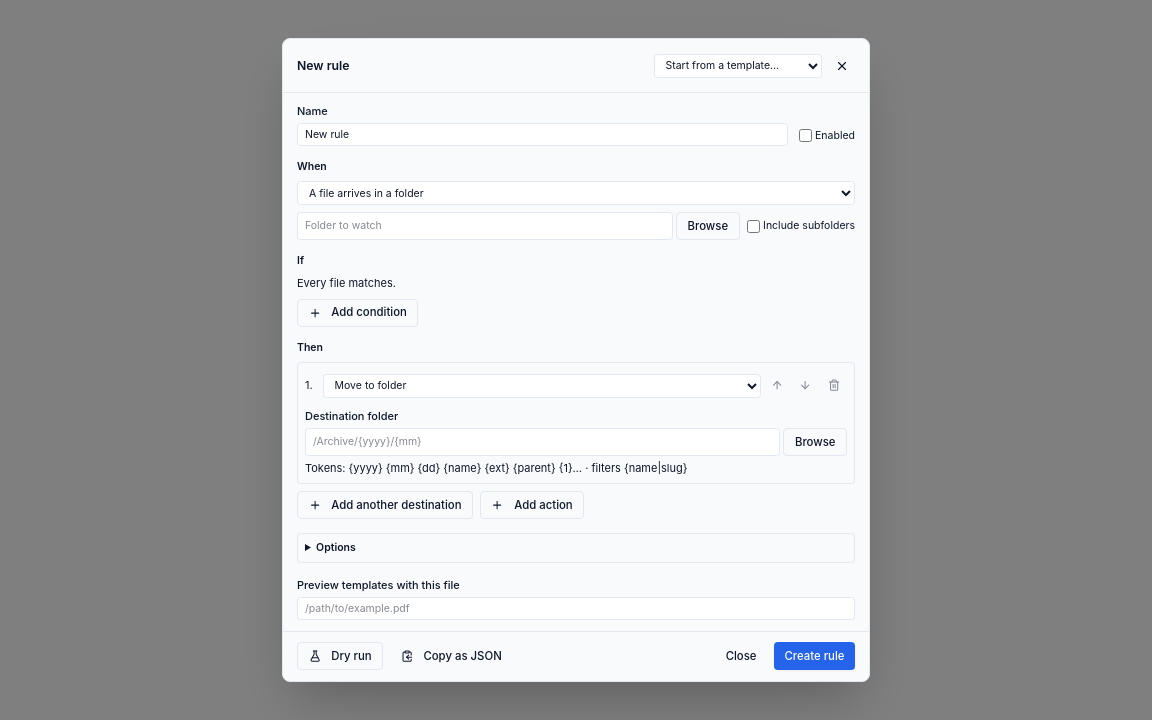
it: AutomationRuleEditor › validates before saving
Click the button "Create rule". click: (814, 656)
box: x1=774 y1=642 x2=855 y2=670
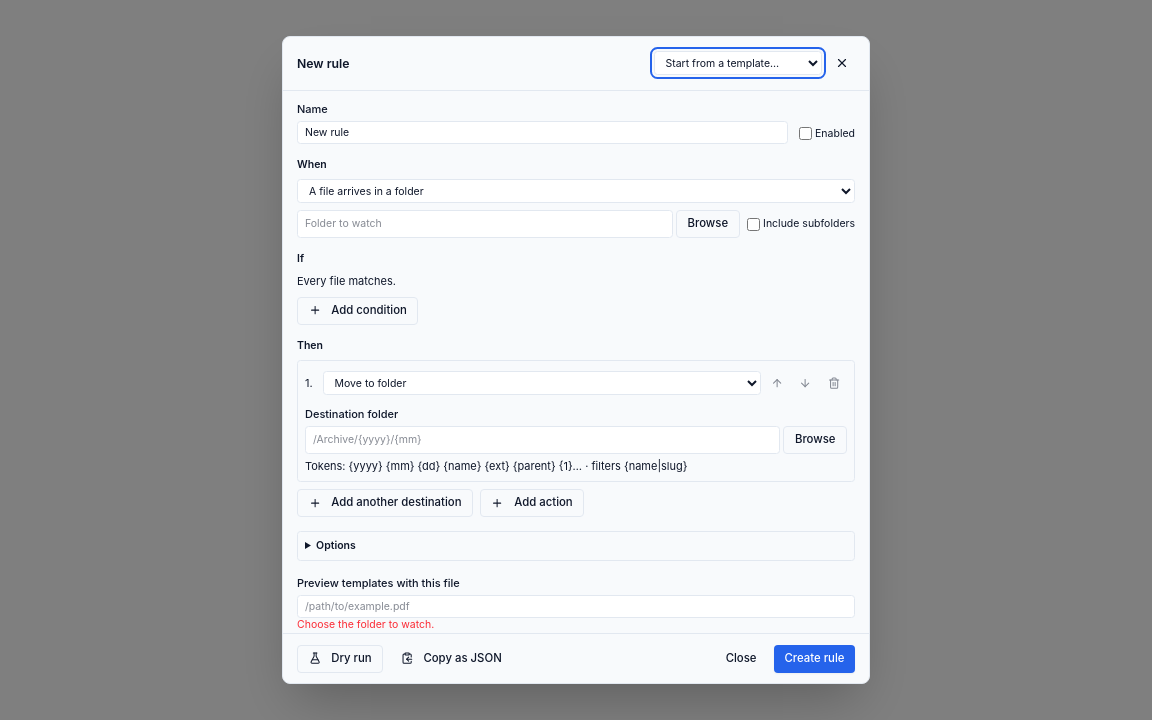
Check: the message shows "Choose the folder to watch.", box x1=297 y1=618 x2=434 y2=631
